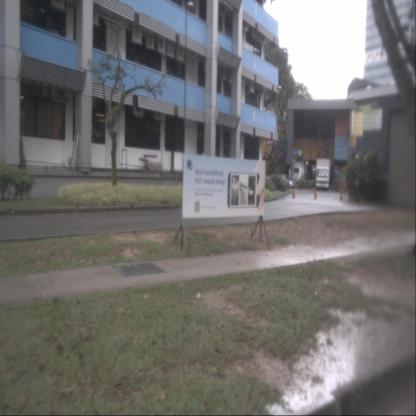movable_object-trafficcone: (291, 185, 297, 199), (312, 188, 318, 200), (339, 188, 343, 202)
vehicle-car: (273, 174, 295, 190)
vehicle-truck: (316, 158, 331, 189)
